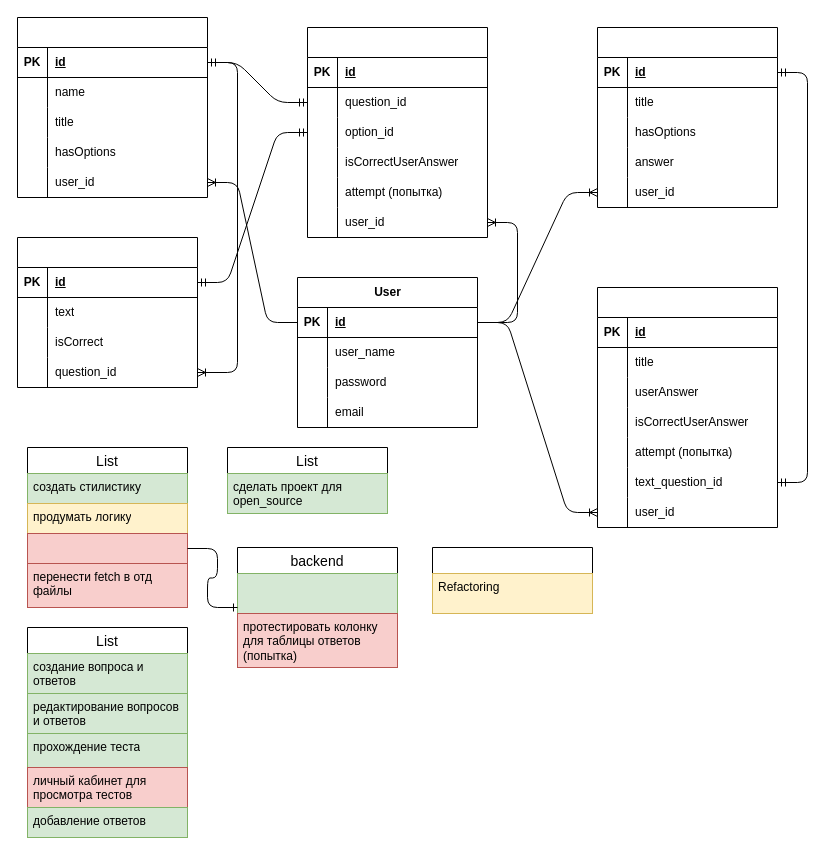
The diagram is 834 pixels wide and 858 high, and some of its shapes have lost their labels. The shapes that lost their labels are listed below. From the top down, each one's box as (x1, y1, x2, y2) in pixels, then its label:
(16, 16, 208, 198): Questions
(596, 26, 778, 208): Text_question
(306, 26, 488, 238): User_answers
(16, 236, 198, 388): Options
(596, 286, 778, 528): Text_answer
(26, 532, 188, 564): доделать backend
(236, 572, 398, 614): получить массив всех тестов
(432, 546, 592, 614): homework
